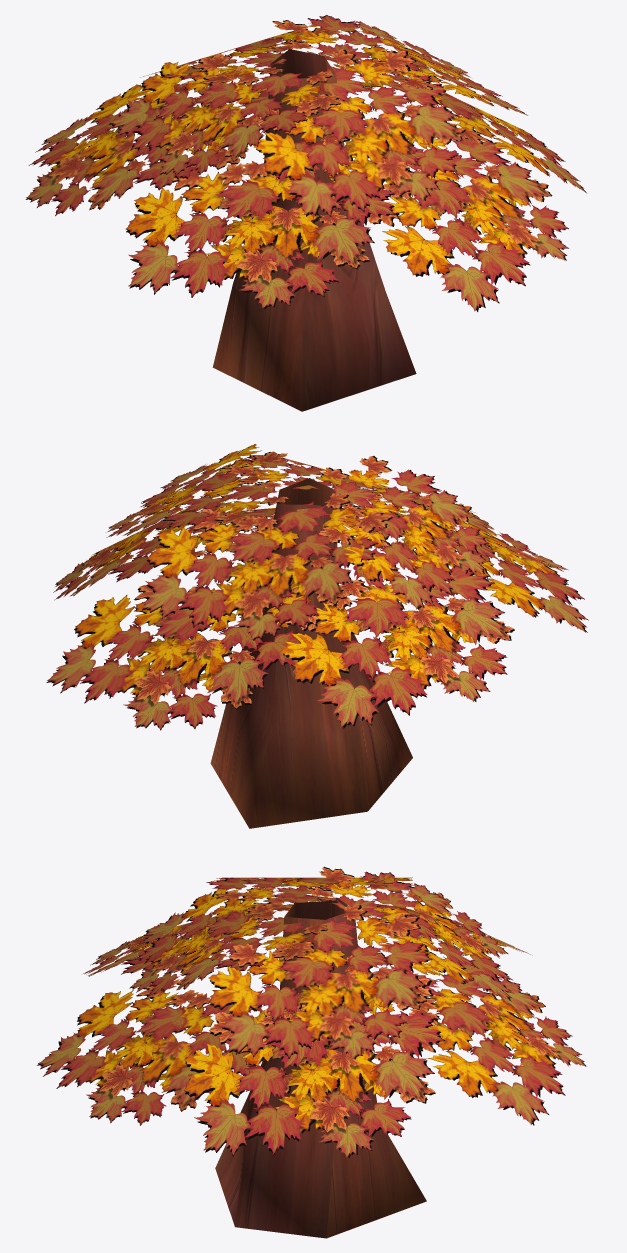
Rendered from Tree_Little_One.fbx.
The picture shows the model from 3 angles, top to bottom: view 1: azimuth 30°, elevation 25°; view 2: azimuth 150°, elevation 25°; view 3: azimuth 270°, elevation 25°; orthographic projection. The views are drawn at different scales.
Parts seen in each view (by area): view 1: Little Tree; view 2: Little Tree; view 3: Little Tree.
Part boxes in pixels (<box>): Little Tree: <box>25,15,586,411</box>; Little Tree: <box>46,444,588,828</box>; Little Tree: <box>37,866,586,1238</box>.
Size of the model in its own units: 11.92 by 6.83 by 12.4.
